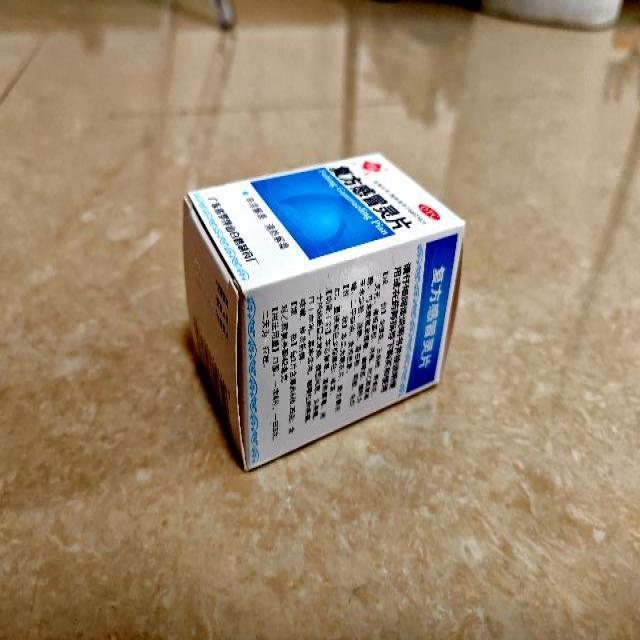box: (182, 152, 464, 474)
